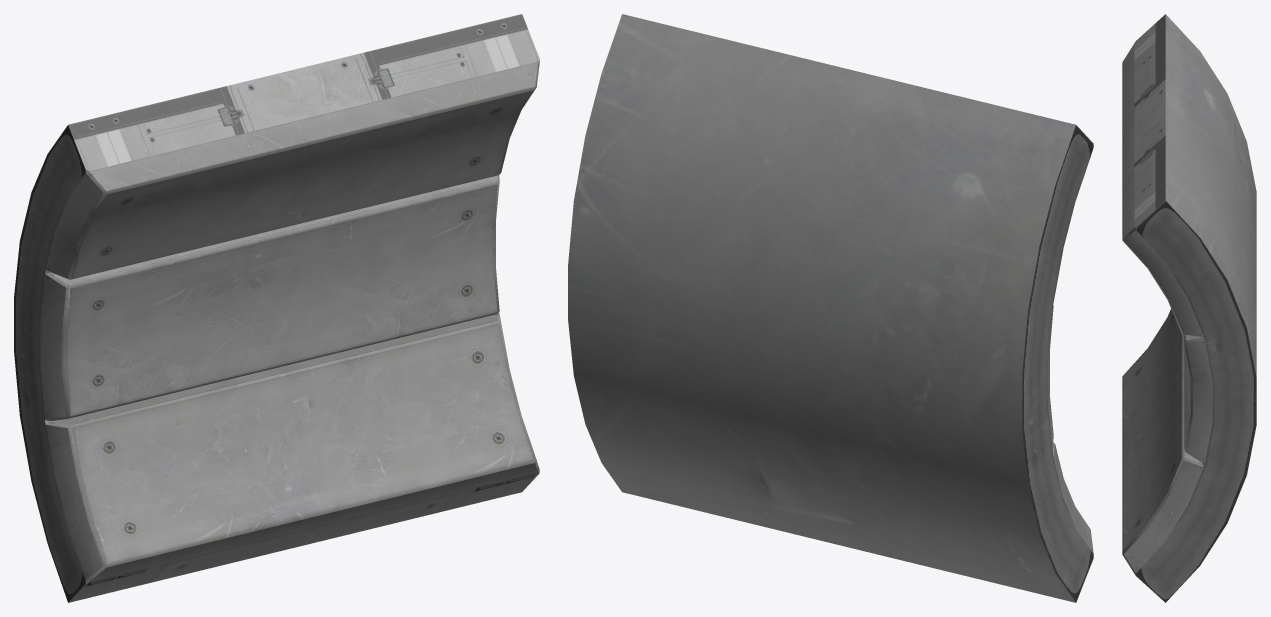
File: SM_Walls_CURVED02.fbx
3 views of the same model, side by side, from view 1: azimuth 30°, elevation 25°; view 2: azimuth 150°, elevation 25°; view 3: azimuth 270°, elevation 25° (orthographic). The views are drawn at different scales.
Parts seen in each view (by area): view 1: SM_Walls_CURVED02_LOD0; view 2: SM_Walls_CURVED02_LOD0; view 3: SM_Walls_CURVED02_LOD0.
Boxes of the visible parts, x1,y1,x2,y2 form: SM_Walls_CURVED02_LOD0: (14, 14, 539, 602); SM_Walls_CURVED02_LOD0: (568, 14, 1093, 602); SM_Walls_CURVED02_LOD0: (1122, 14, 1256, 602).
Size of the model in its own units: 400 by 122 by 403.
Materials: 2 (2 with a texture image).
